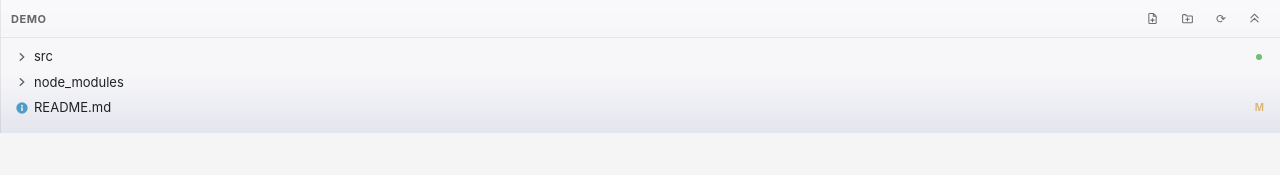
Scenario: DocumentTree › decorates rows with git colors, badges, directory dots and dimming
Expected: the text with class "doc-tree-git-badge" reads "M", [1255, 101, 1264, 113]
# Expanding src shows the untracked file itself.
Click the button "src".
click(22, 57)  # box [9, 44, 1272, 70]
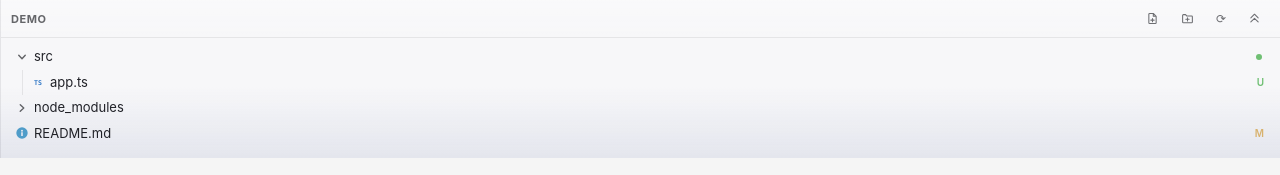
Expected: the text with class "doc-tree-git-badge" reads "U", [1257, 76, 1264, 88]
